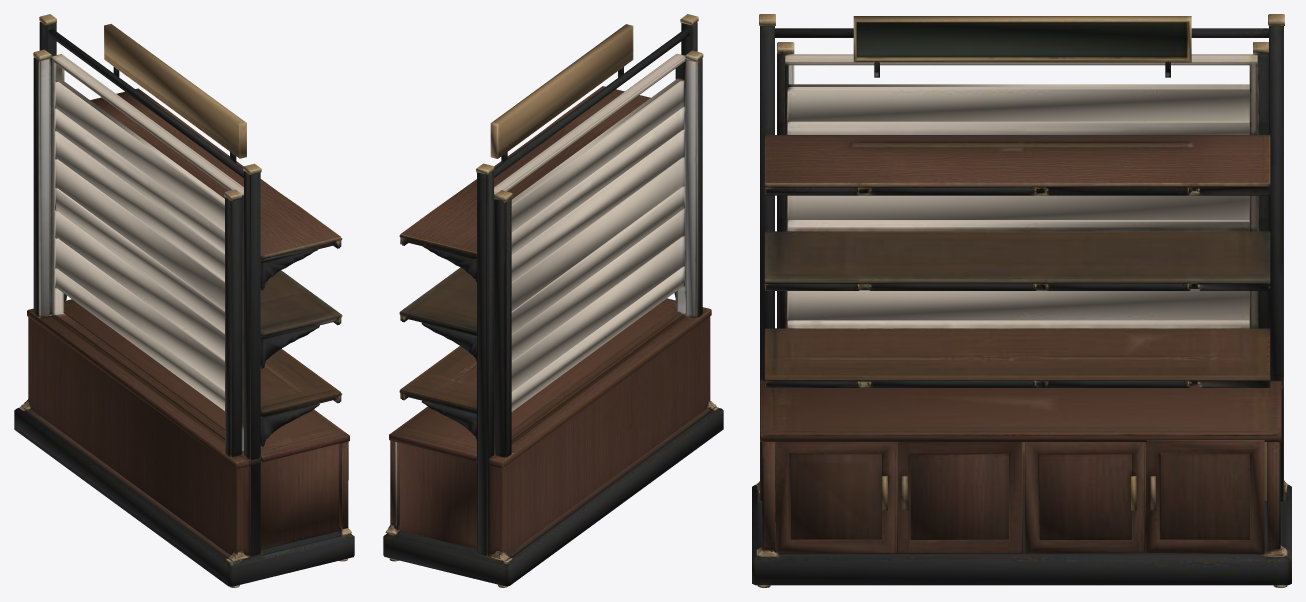
Rendered from display_shelf.glb.
The picture shows the model from 3 angles, left to right: view 1: azimuth 30°, elevation 25°; view 2: azimuth 150°, elevation 25°; view 3: azimuth 270°, elevation 25°; orthographic projection. The views are drawn at different scales.
Parts seen in each view (by area): view 1: display_shelf; view 2: display_shelf; view 3: display_shelf.
Part boxes in pixels (left/top/right/bottom): display_shelf: left=14, top=14, right=354, bottom=587; display_shelf: left=383, top=14, right=723, bottom=587; display_shelf: left=752, top=14, right=1291, bottom=587.
Size of the model in its own units: 0.5356 by 1.7 by 1.57.
Materials: 1 (1 with a texture image).
